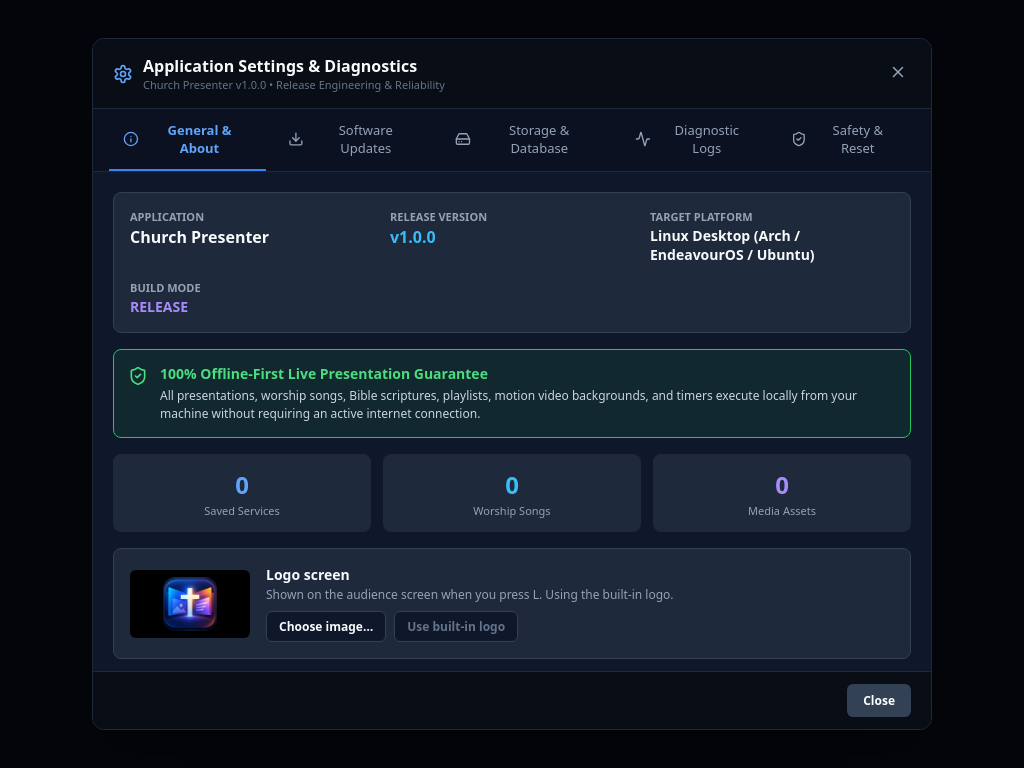
Test: Phase 10.4: Auto-updater (Signed Feeds, Startup Checks & Live Service Lock) › SettingsModal Software Updates Tab UI › handles offline/network errors gracefully without crashing
Click the button "Software Updates" at {"x": 354, "y": 140}, box [274,109,433,171]
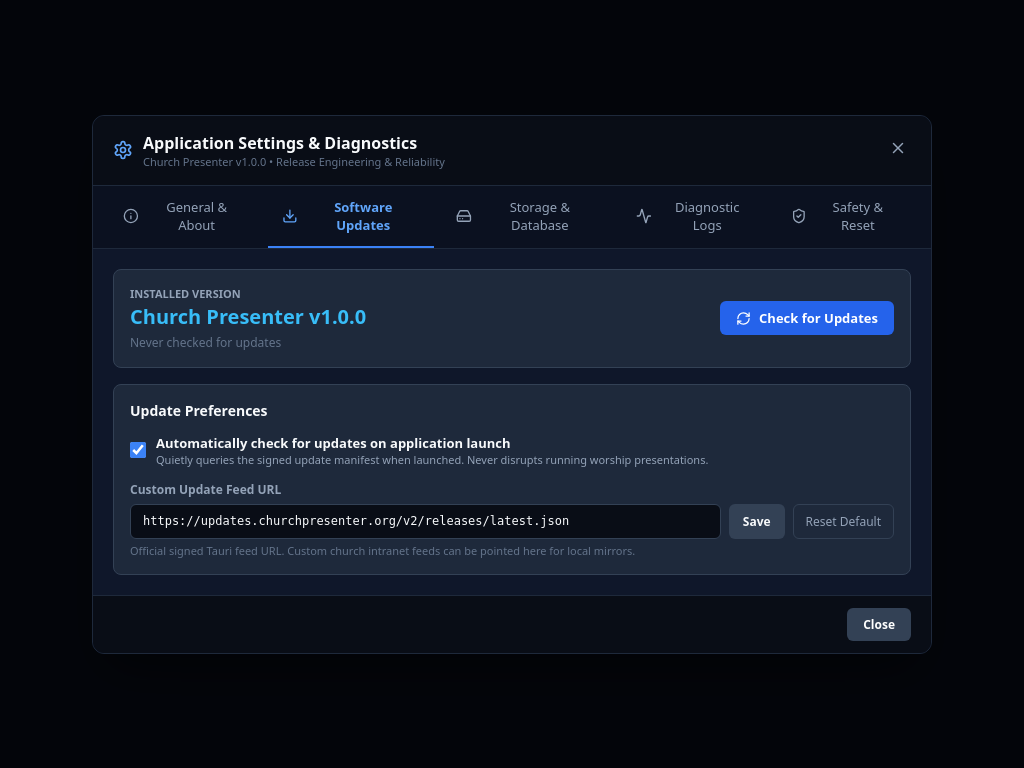
Click the button with test id "check-updates-btn" at {"x": 807, "y": 318}, box [720,301,894,335]
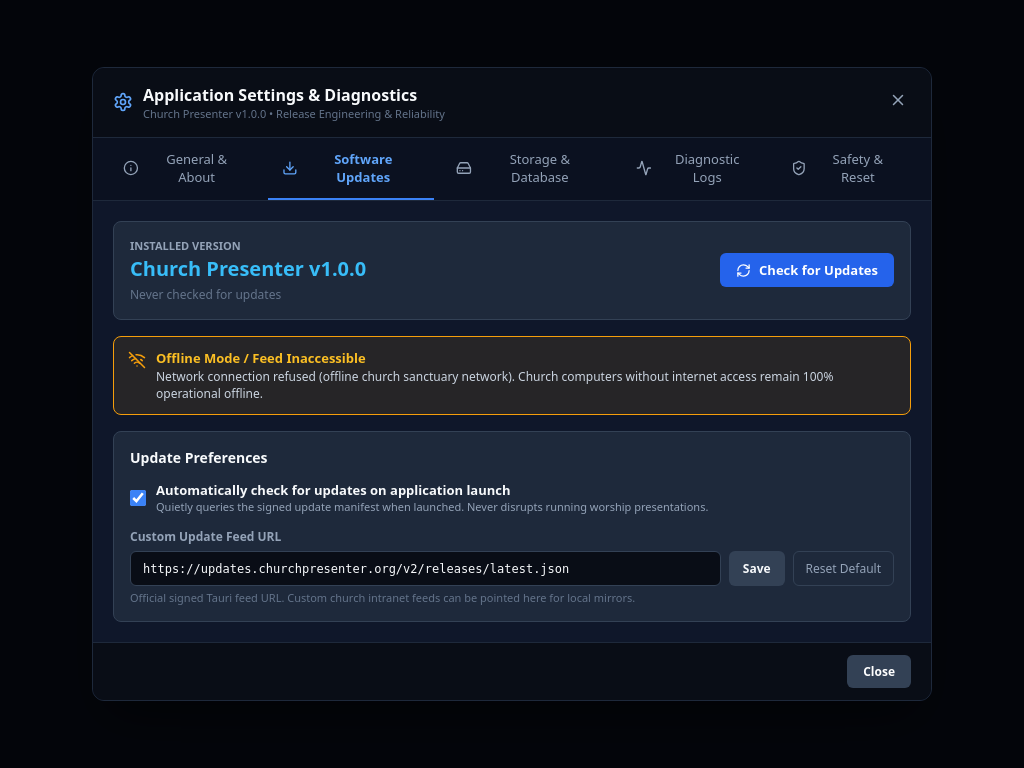
Now the element with test id "updater-error-notice" is shown, box [113,336,911,415]
Now the text "Offline Mode / Feed Inaccessible" is shown, box [156,349,366,367]
Now the text "remain 100% operational offline" is shown, box [156,368,833,402]
